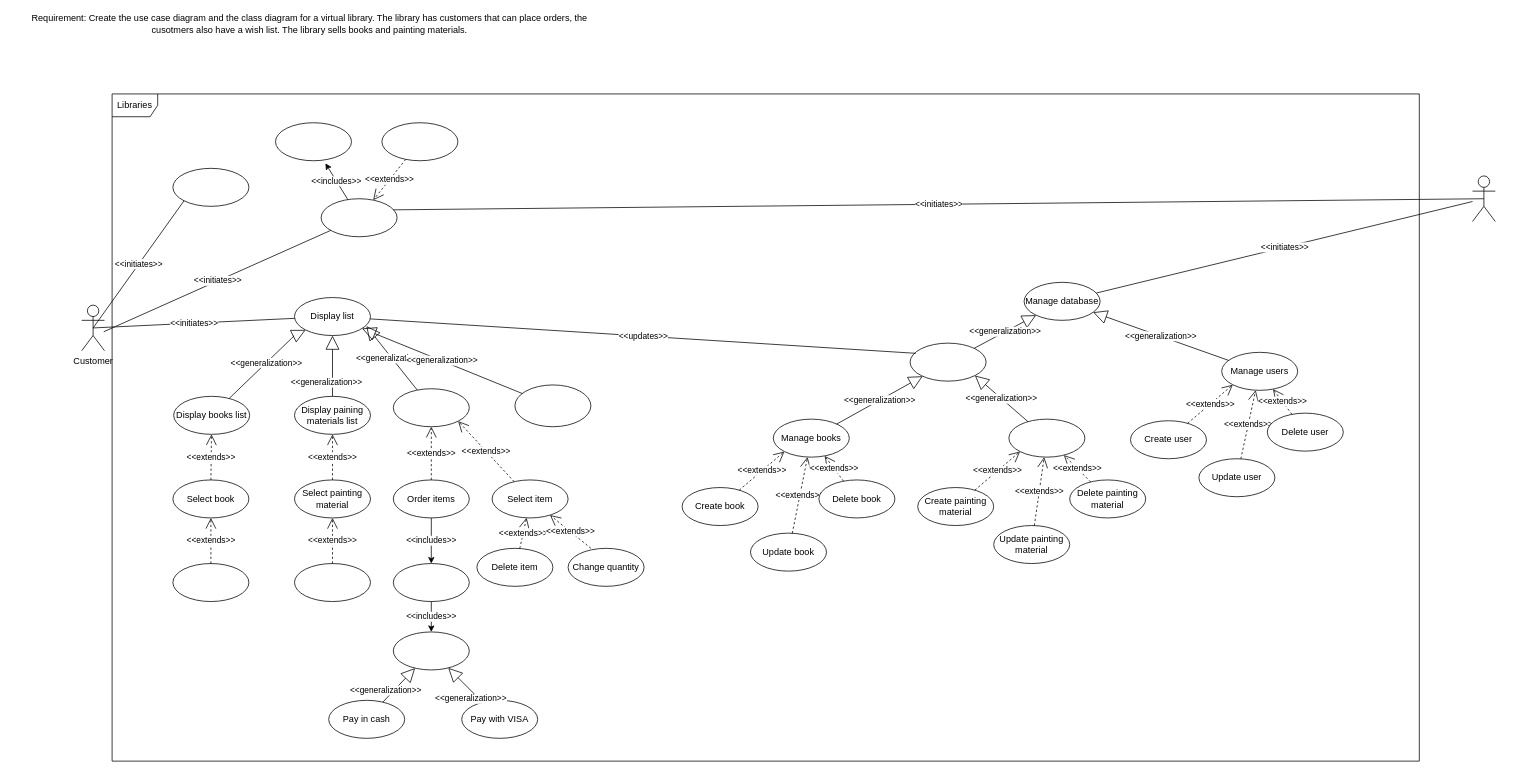
Some shapes in this 1525 by 774 pixel diagram are drawn without their labels. The shapes that lost their labels are listed below. From the top down, each one's box as (x1, y1, x2, y2) in pixels, then its label:
(275, 122, 352, 161): Check password
(381, 122, 458, 161): Login Error
(172, 168, 249, 206): Create account
(1472, 175, 1495, 222): Library admin
(320, 198, 397, 237): Login
(909, 342, 986, 381): Manage items
(393, 388, 469, 427): Display wish list
(514, 384, 591, 427): Display orders
(1008, 418, 1085, 457): Manage painting materials
(172, 563, 249, 602): Add book to wish list
(294, 563, 370, 602): Add painting material to wish list
(393, 563, 469, 602): Fill credentials
(393, 631, 469, 670): Pay
